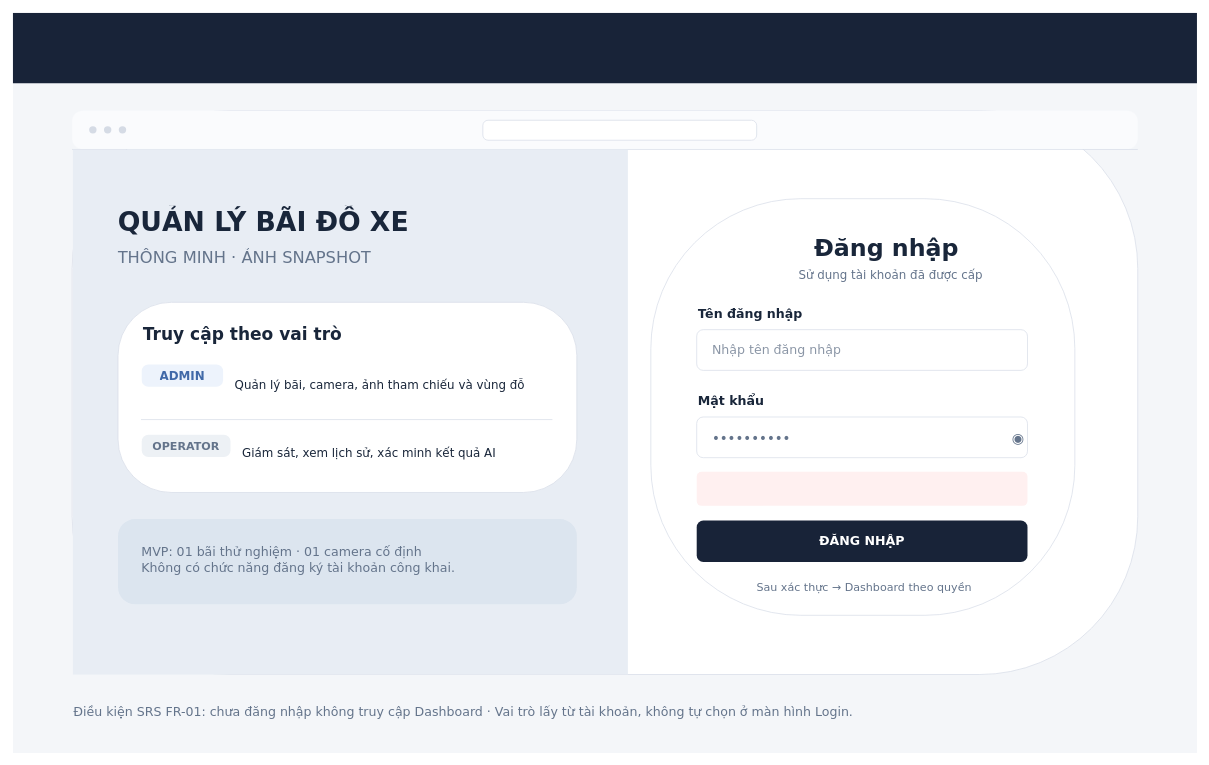
This 1209x765 diagram has some shape labels left out. Each missing label, with the centre of its shape:
! Sai tài khoản hoặc mật khẩu (trạng thái lỗi): the point at 861,488
ai-smart-parking.local / login: the point at 619,130
